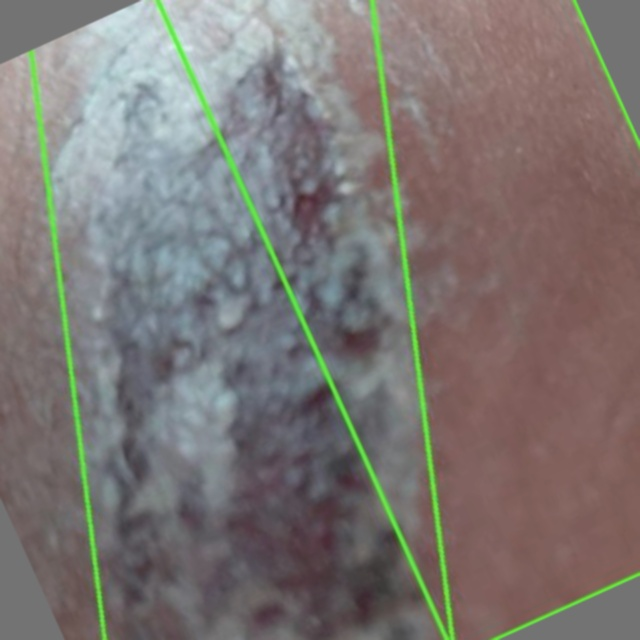Atopic Dermatitis: (158, 0, 639, 639), (35, 0, 445, 639)
